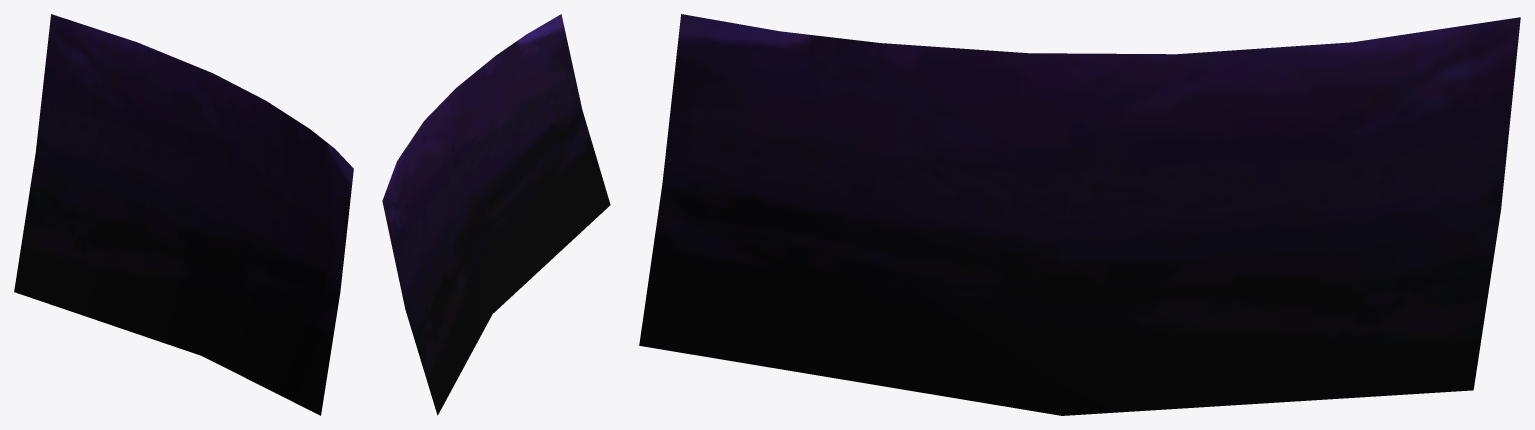
Rendered from SWORDLIGHT20_PS-AREA05-RANGE01_10.fbx.
3 renders of one model, left to right at view 1: azimuth 30°, elevation 25°; view 2: azimuth 150°, elevation 25°; view 3: azimuth 270°, elevation 25°, orthographic. The views are drawn at different scales.
Parts seen in each view (by area): view 1: SWORDLIGHT20_PS-AREA05-RANGE01_10; view 2: SWORDLIGHT20_PS-AREA05-RANGE01_10; view 3: SWORDLIGHT20_PS-AREA05-RANGE01_10.
Part boxes in pixels (x1,y1,x2,y2): SWORDLIGHT20_PS-AREA05-RANGE01_10: (14, 14, 353, 415); SWORDLIGHT20_PS-AREA05-RANGE01_10: (382, 14, 610, 415); SWORDLIGHT20_PS-AREA05-RANGE01_10: (639, 14, 1520, 415).
Bounding box in the file's own units: 72166 × 167111 × 295093.
Materials: 1 (1 with a texture image).
